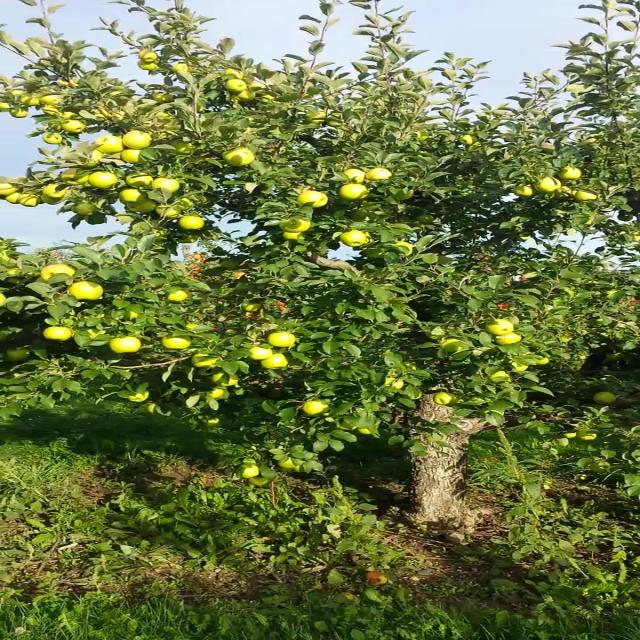apple: (222, 147, 254, 167), (68, 282, 102, 300), (41, 263, 75, 280), (90, 170, 116, 190), (110, 336, 138, 354), (123, 132, 153, 148), (94, 137, 122, 154), (77, 150, 103, 168), (119, 189, 147, 205), (280, 217, 308, 233), (62, 169, 89, 185), (533, 178, 560, 194), (340, 184, 370, 198), (5, 346, 31, 362), (191, 355, 220, 369), (487, 320, 514, 335), (127, 173, 152, 189), (297, 192, 325, 206), (340, 232, 368, 246), (126, 200, 156, 213), (269, 332, 295, 347), (261, 354, 287, 369), (122, 149, 146, 165), (163, 335, 190, 349), (44, 326, 70, 340), (154, 179, 178, 193), (214, 373, 238, 387), (495, 333, 523, 345), (594, 391, 618, 405), (305, 402, 329, 415), (172, 139, 193, 153), (156, 205, 180, 217), (558, 167, 580, 180), (344, 169, 364, 183), (249, 347, 272, 359), (367, 168, 390, 180), (180, 217, 202, 229), (166, 288, 188, 300), (44, 184, 64, 197), (509, 360, 530, 372), (223, 68, 242, 81), (0, 183, 19, 196), (395, 242, 414, 255), (226, 80, 246, 92), (576, 191, 596, 203), (492, 371, 512, 383), (248, 476, 271, 486), (22, 94, 41, 106), (176, 198, 195, 210), (7, 267, 21, 283), (62, 122, 84, 132), (442, 339, 464, 349), (6, 192, 24, 204), (436, 394, 454, 406), (308, 111, 326, 123), (556, 186, 574, 198), (137, 61, 158, 71), (233, 91, 254, 101), (86, 327, 103, 339), (20, 196, 40, 206), (209, 388, 229, 398), (42, 193, 62, 203), (241, 302, 261, 312), (578, 429, 598, 439), (76, 204, 94, 215), (279, 457, 297, 468), (327, 115, 343, 127), (204, 416, 220, 428), (42, 95, 60, 105), (138, 51, 156, 61), (458, 135, 476, 145), (130, 391, 148, 401), (284, 232, 306, 240), (44, 134, 61, 144), (244, 466, 258, 478), (41, 106, 59, 115), (386, 378, 404, 387), (32, 276, 50, 285), (415, 129, 429, 140), (10, 110, 28, 118), (154, 94, 172, 102), (513, 187, 532, 194), (182, 323, 201, 330), (129, 310, 140, 322), (1, 102, 14, 112), (149, 404, 160, 415), (112, 110, 124, 120), (536, 357, 550, 365), (261, 94, 275, 102), (175, 63, 187, 71), (562, 432, 578, 438), (153, 112, 168, 116), (1, 294, 5, 306), (357, 430, 369, 434)
